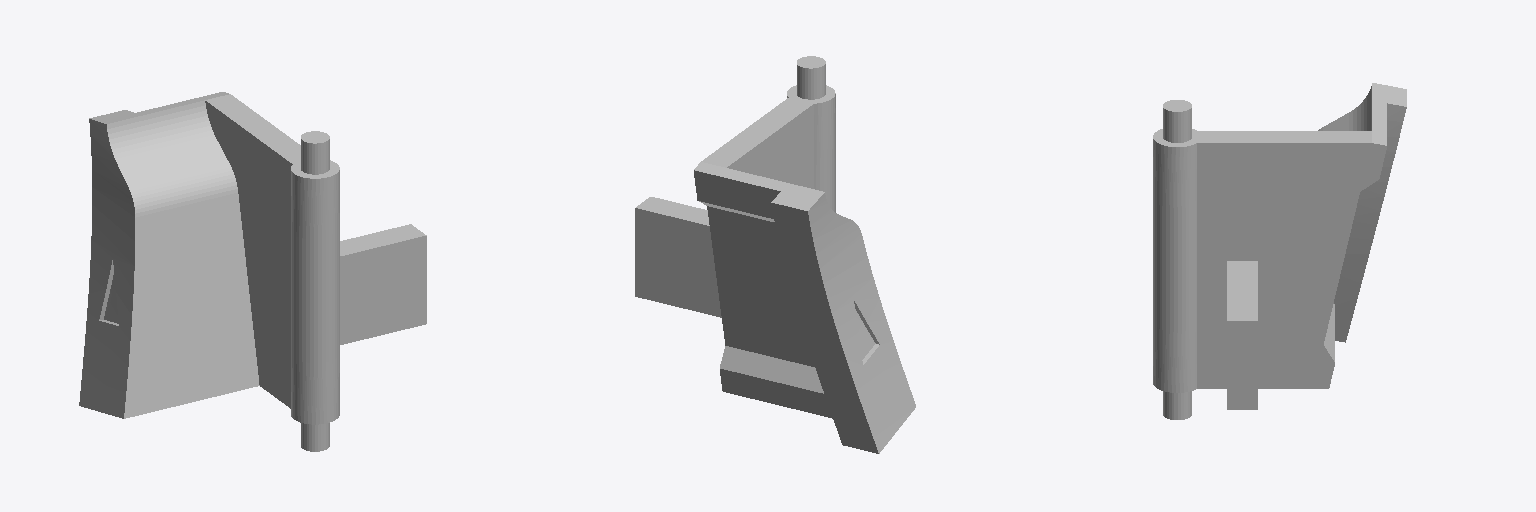
The model's file is mouse_(9).obj.
The picture shows the model from 3 angles: view 1: azimuth 30°, elevation 25°; view 2: azimuth 150°, elevation 25°; view 3: azimuth 270°, elevation 25°; orthographic projection.
Parts seen in each view (by area): view 1: Side_Button_Upper; view 2: Side_Button_Upper; view 3: Side_Button_Upper.
Boxes of the visible parts, x1=… form: Side_Button_Upper: x1=79, y1=92, x2=426, y2=451; Side_Button_Upper: x1=635, y1=56, x2=915, y2=453; Side_Button_Upper: x1=1153, y1=83, x2=1406, y2=419.
Bounding box in the file's own units: 1.7 × 1.74 × 1.3.